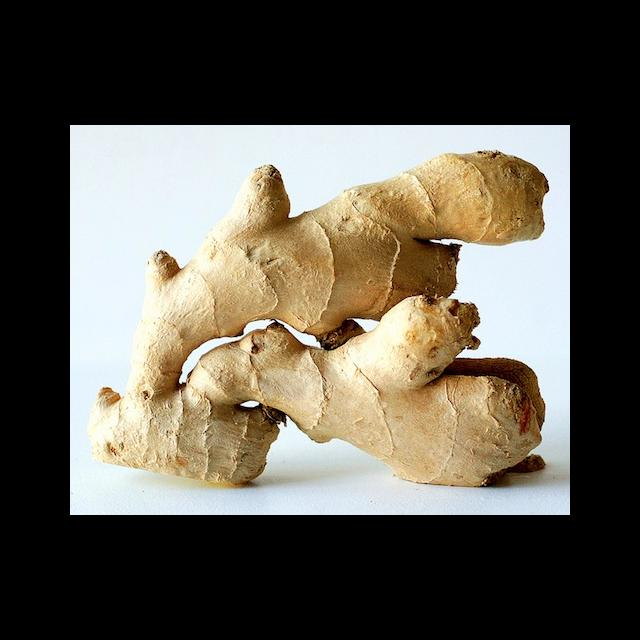ginger: (88, 152, 551, 483)
